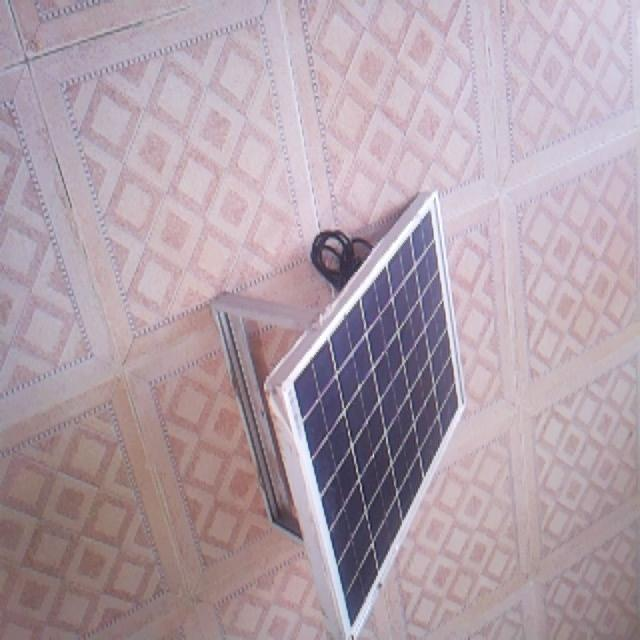Normal Solar Panel: (266, 195, 465, 639)
